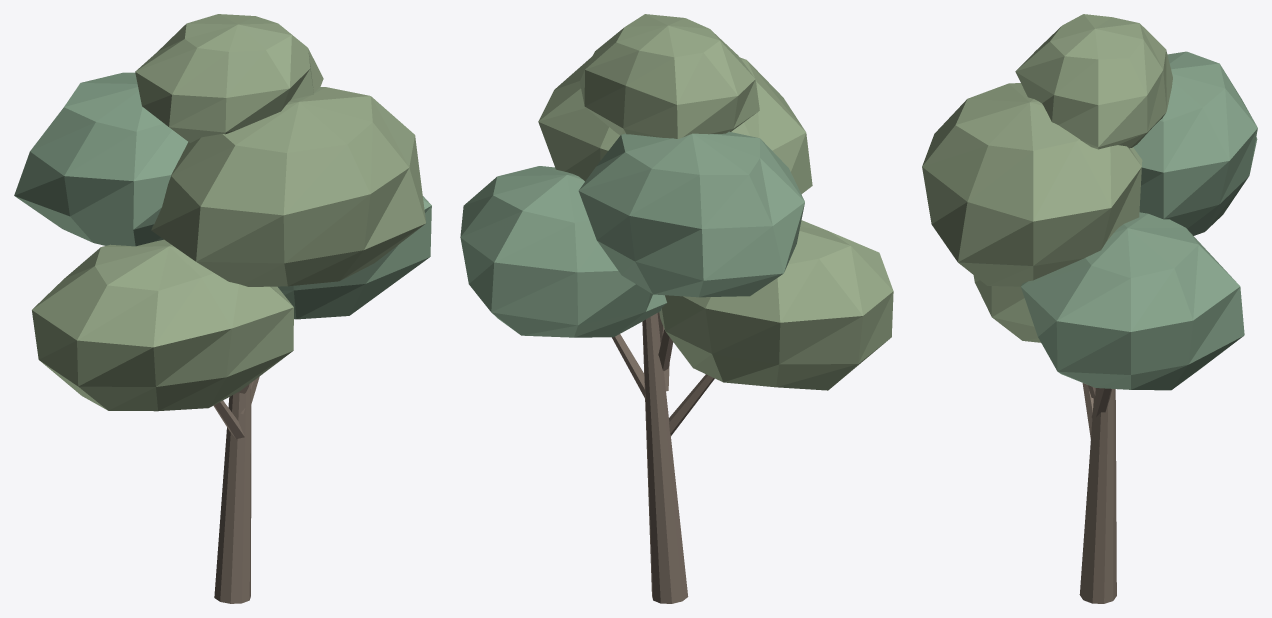
The picture shows the model from 3 angles, left to right: view 1: azimuth 30°, elevation 25°; view 2: azimuth 150°, elevation 25°; view 3: azimuth 270°, elevation 25°; orthographic projection.
Bounding box in the file's own units: 13.69 × 19.29 × 10.31.
